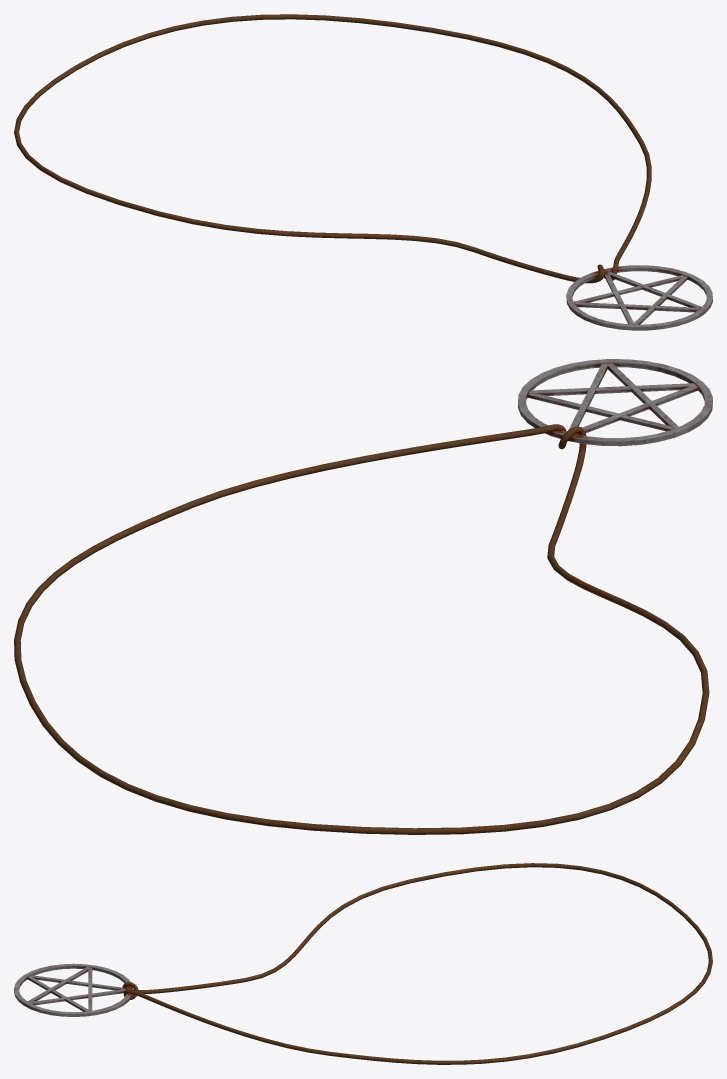
Rendered from hex_necklace.glb.
3 renders of one model, top to bottom at view 1: azimuth 30°, elevation 25°; view 2: azimuth 150°, elevation 25°; view 3: azimuth 270°, elevation 25°, orthographic. The views are drawn at different scales.
Parts seen in each view (by area): view 1: Rope_low, Circle_low, hex03_low, hex01_low, hex02_low; view 2: Rope_low, Circle_low, hex04_low, hex02_low, hex05_low; view 3: Rope_low, Circle_low, hex01_low, hex05_low.
Boxes of the visible parts, <box> form: Rope_low: <box>14,14,651,283</box>; Circle_low: <box>566,265,712,330</box>; hex03_low: <box>574,302,700,312</box>; hex01_low: <box>604,271,701,307</box>; hex02_low: <box>574,275,683,302</box>; Rope_low: <box>14,424,709,834</box>; Circle_low: <box>518,359,712,446</box>; hex04_low: <box>527,383,697,395</box>; hex02_low: <box>527,393,673,431</box>; hex05_low: <box>575,386,698,434</box>; Rope_low: <box>122,863,712,1064</box>; Circle_low: <box>14,963,133,1016</box>; hex01_low: <box>30,988,127,1005</box>; hex05_low: <box>30,975,127,990</box>.
Bounding box in the file's own units: 0.4935 × 0.0241 × 0.7312.
1 material, 1 textured.
